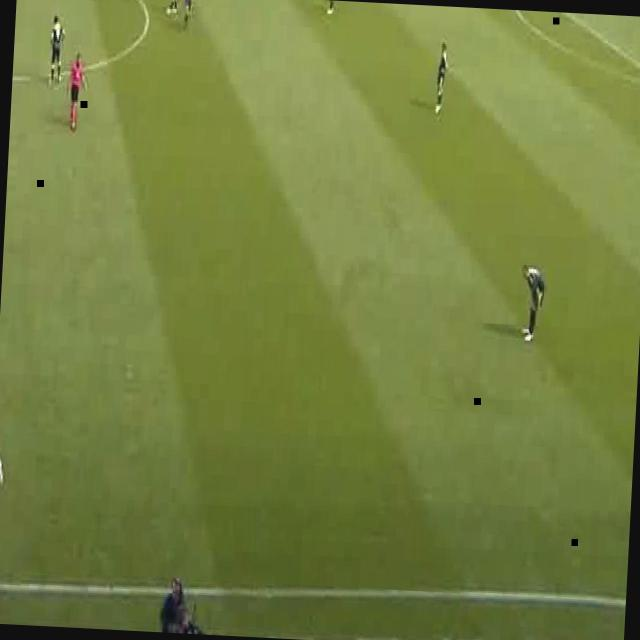player-white: (516, 263, 544, 341), (66, 51, 89, 129), (48, 15, 68, 85), (433, 41, 447, 115), (0, 437, 5, 572), (181, 0, 194, 25), (326, 0, 338, 16), (166, 0, 179, 12)
